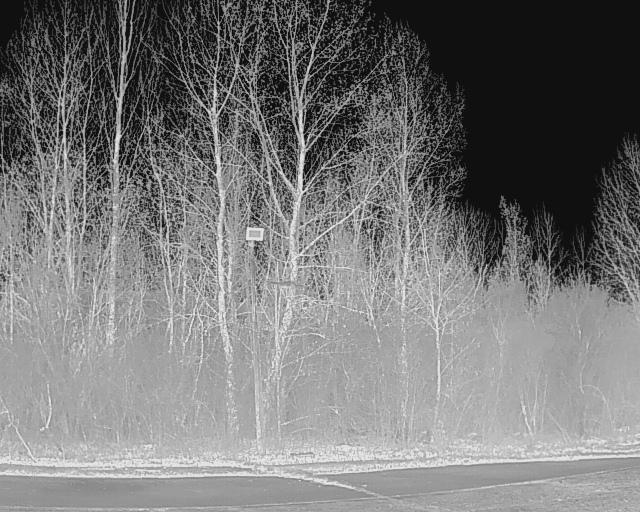drone: (257, 276, 308, 301)
